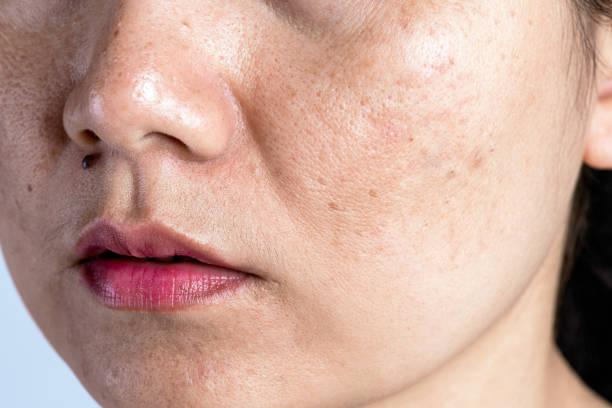Dry-Skin: (316, 84, 537, 192), (17, 43, 276, 117), (99, 272, 239, 369), (22, 158, 94, 269), (353, 260, 449, 332), (217, 158, 271, 273), (257, 257, 336, 329), (337, 18, 497, 48), (442, 221, 524, 277), (506, 90, 519, 149)
